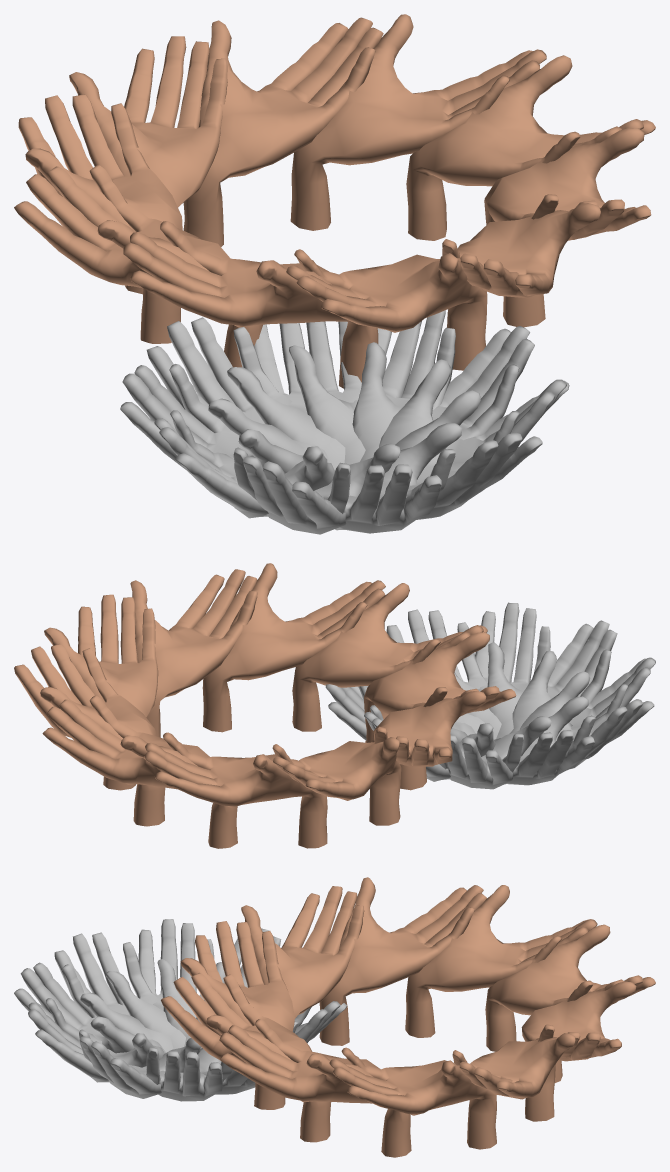
Rendered from Firewiggle3.fbx.
The picture shows the model from 3 angles, top to bottom: view 1: azimuth 30°, elevation 25°; view 2: azimuth 150°, elevation 25°; view 3: azimuth 270°, elevation 25°; orthographic projection. The views are drawn at different scales.
Visible parts, largest first — view 1: MASH1_ReproMesh, MASH2_ReproMesh; view 2: MASH1_ReproMesh, MASH2_ReproMesh; view 3: MASH1_ReproMesh, MASH2_ReproMesh.
Boxes of the visible parts, <box> form: MASH1_ReproMesh: <box>14,14,655,388</box>; MASH2_ReproMesh: <box>120,310,569,534</box>; MASH1_ReproMesh: <box>14,563,516,848</box>; MASH2_ReproMesh: <box>325,602,655,789</box>; MASH1_ReproMesh: <box>161,877,655,1157</box>; MASH2_ReproMesh: <box>14,919,346,1101</box>.
Size of the model in its own units: 19.83 by 6.88 by 24.12.
